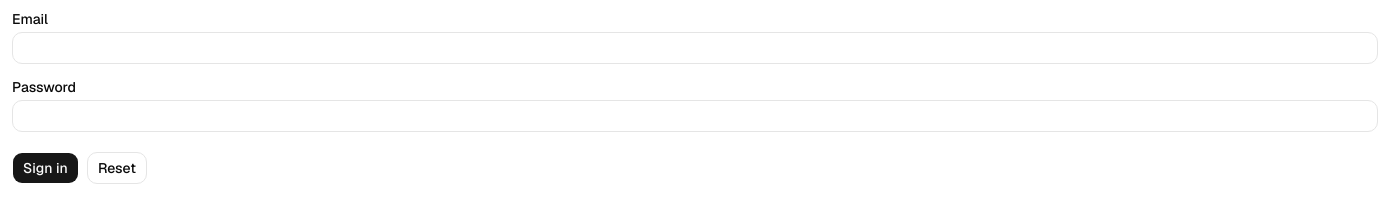
SchemaForm › resets form to defaultValues when the reset button is clicked
Type "a@b.com" into the field labelled "Email".
click(695, 48); type("a@b.com")  # box [12,32,1378,64]
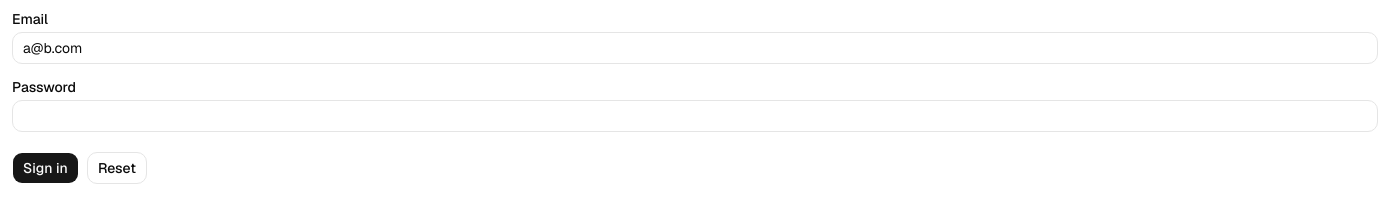
Click the button "Reset".
click(117, 168)  # box [87,152,147,184]
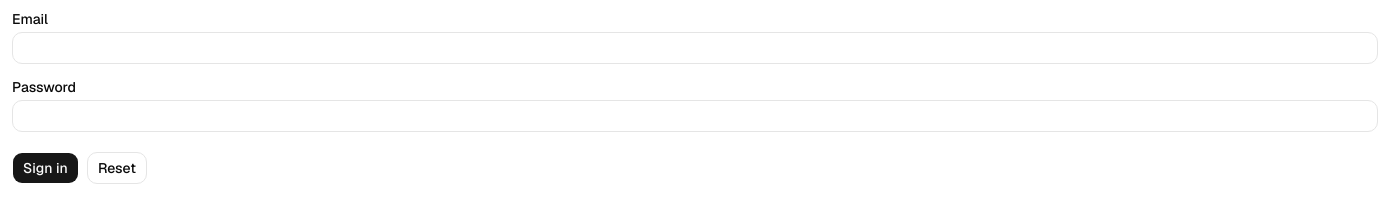
Check: the field labelled "Email" is empty, box [12,32,1378,64]
